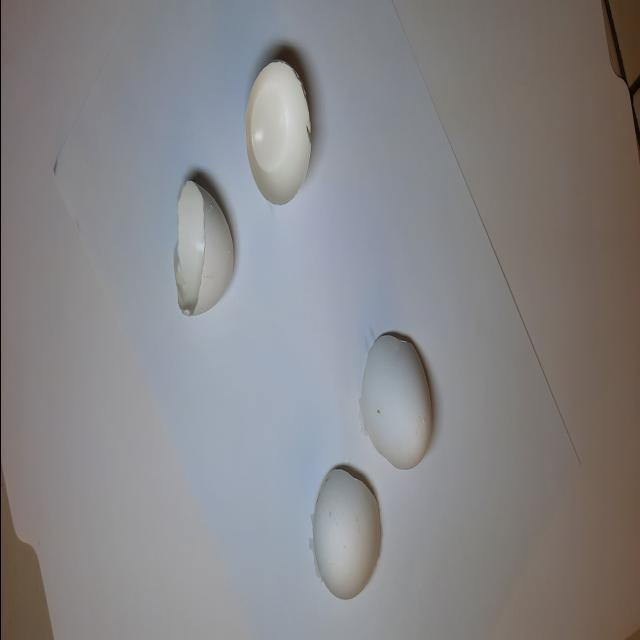egg shell: (356, 307, 440, 475), (242, 43, 319, 217), (164, 168, 240, 334), (304, 464, 384, 614)
